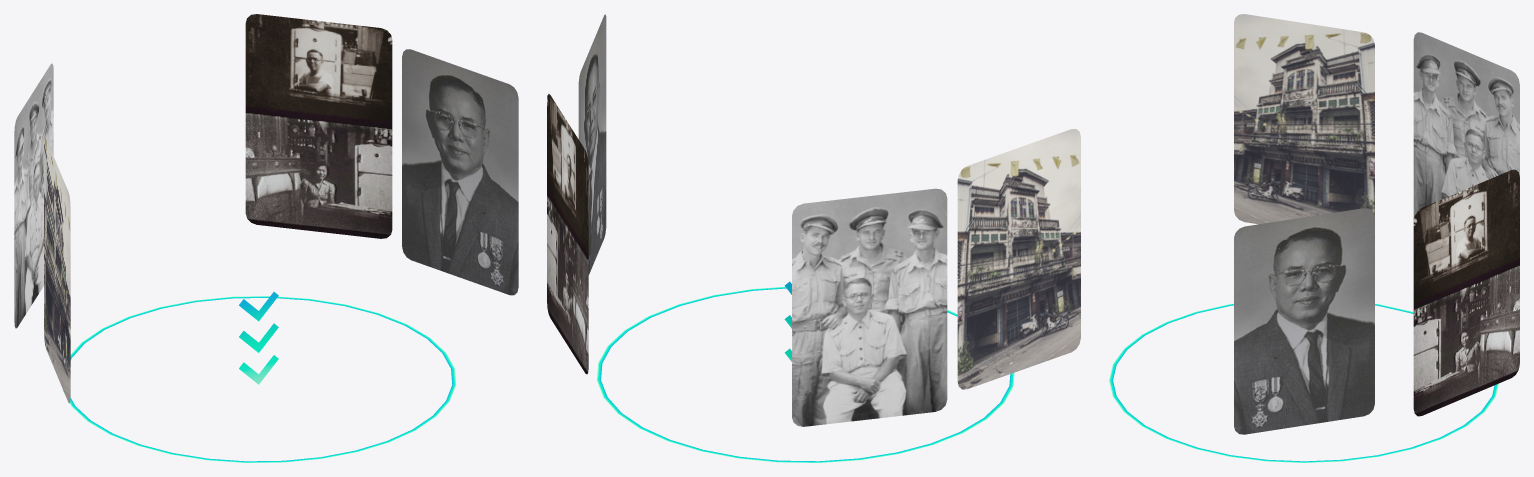
File: directional_arrow.glb
3 views of the same model, side by side, from view 1: azimuth 30°, elevation 25°; view 2: azimuth 150°, elevation 25°; view 3: azimuth 270°, elevation 25° (orthographic). The views are drawn at different scales.
Visible parts, largest first — view 1: Plane.001, Plane.002, Plane, Plane.003, Circle; view 2: Plane, Plane.003, Plane.001, Plane.002, Circle; view 3: Plane.002, Plane.003, Plane.001, Plane, Circle.
Part boxes in pixels (box(x1,y1,x2,y2)): Plane.001: box(245, 14, 392, 238); Plane.002: box(402, 49, 518, 295); Plane: box(14, 63, 53, 328); Plane.003: box(44, 137, 70, 403); Circle: box(62, 296, 455, 462); Plane: box(792, 188, 947, 426); Plane.003: box(957, 129, 1080, 389); Plane.001: box(547, 94, 588, 374); Plane.002: box(578, 14, 606, 275); Circle: box(597, 287, 1014, 462); Plane.002: box(1234, 208, 1374, 434); Plane.003: box(1234, 14, 1374, 224); Plane.001: box(1413, 169, 1519, 416); Plane: box(1413, 32, 1519, 220); Circle: box(1109, 303, 1498, 462).
Bounding box in the file's own units: 4.45 × 2.55 × 3.58.
1 material, 1 textured.
